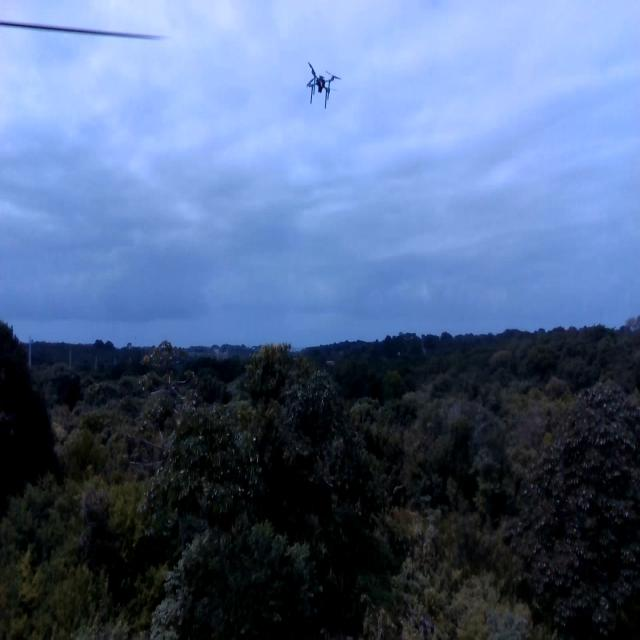-uav-: (298, 52, 345, 115)
